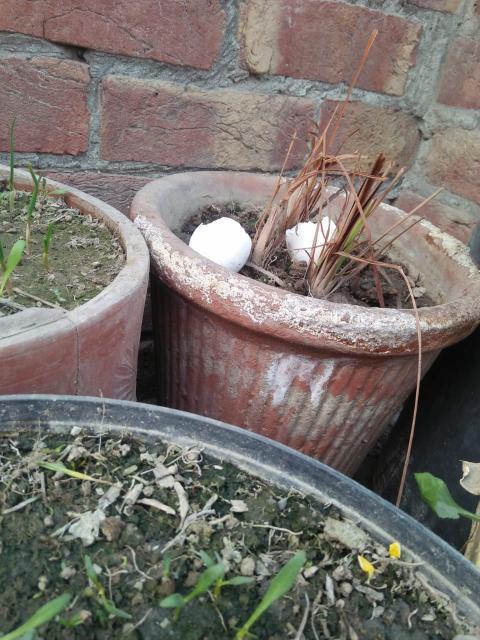Roto: (188, 216, 252, 273), (284, 216, 338, 266)
